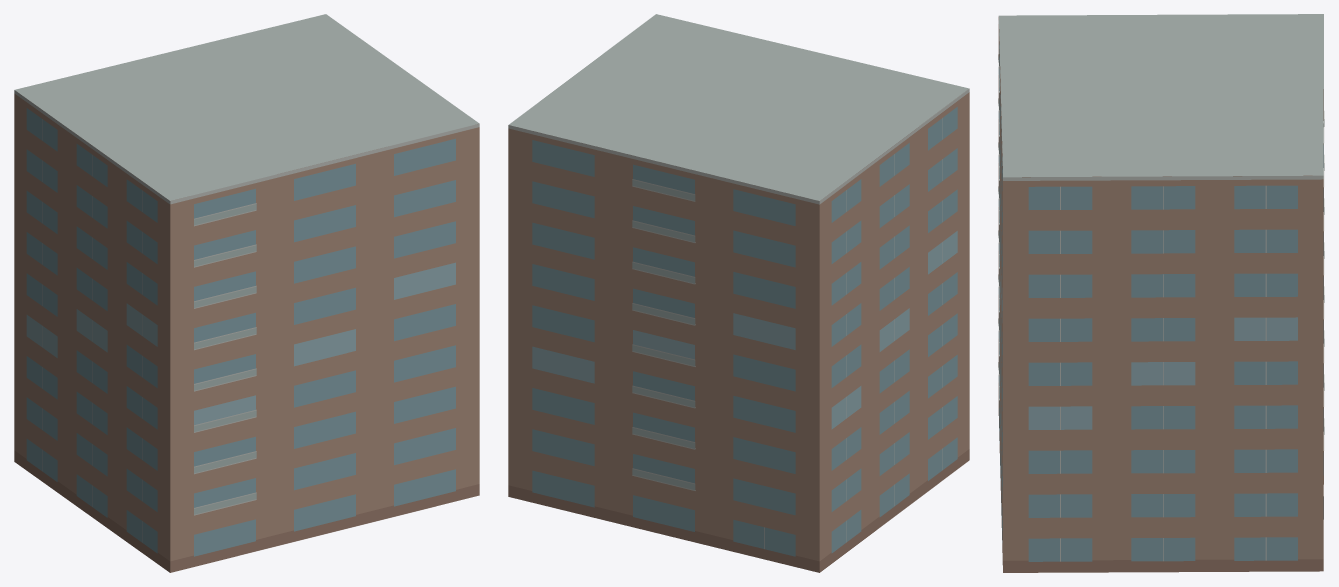
The model's file is survey-upis-32877396.glb.
3 renders of one model, left to right at view 1: azimuth 30°, elevation 25°; view 2: azimuth 150°, elevation 25°; view 3: azimuth 270°, elevation 25°, orthographic. The views are drawn at different scales.
Parts seen in each view (by area): view 1: survey-upis-32877396.tmp; view 2: survey-upis-32877396.tmp; view 3: survey-upis-32877396.tmp.
Part boxes in pixels (x1,y1,x2,y2): survey-upis-32877396.tmp: (14,14,479,572); survey-upis-32877396.tmp: (508,14,969,572); survey-upis-32877396.tmp: (998,14,1324,572).
Bounding box in the file's own units: 22.66 × 25.6 × 19.12.
